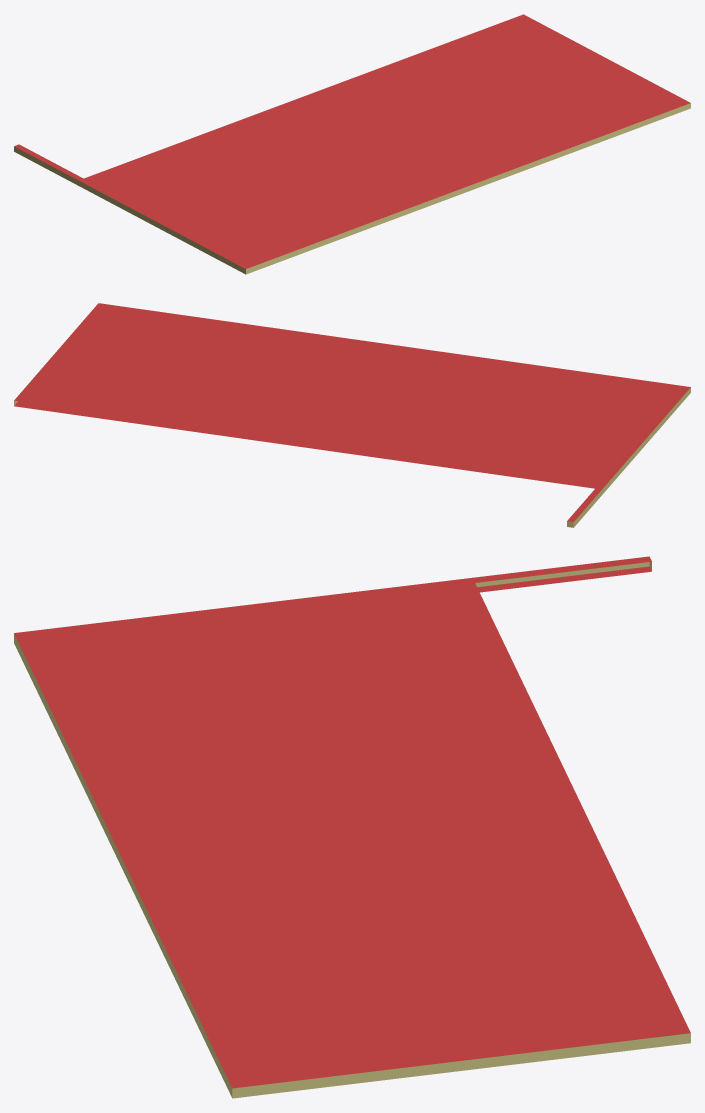
3 renders of one model, top to bottom at view 1: azimuth 30°, elevation 25°; view 2: azimuth 150°, elevation 25°; view 3: azimuth 270°, elevation 25°, orthographic. The views are drawn at different scales.
Size of the model in its own units: 10.87 by 6.1 by 0.321.
